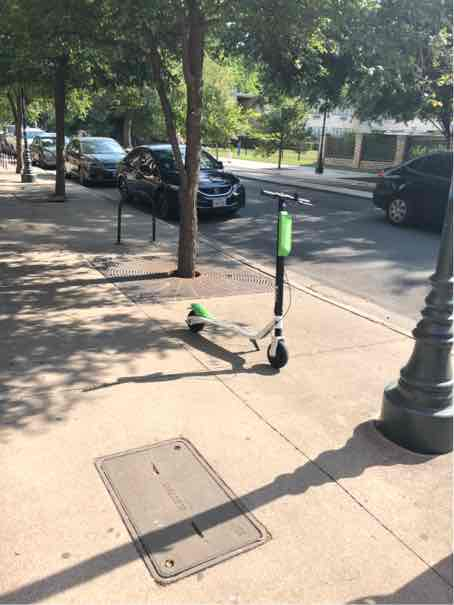scooter: (185, 191, 303, 377)
